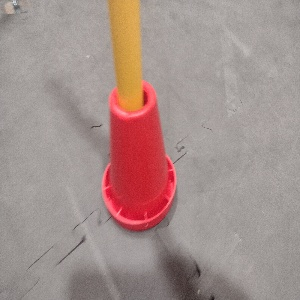Red_1: (99, 78, 177, 231)
